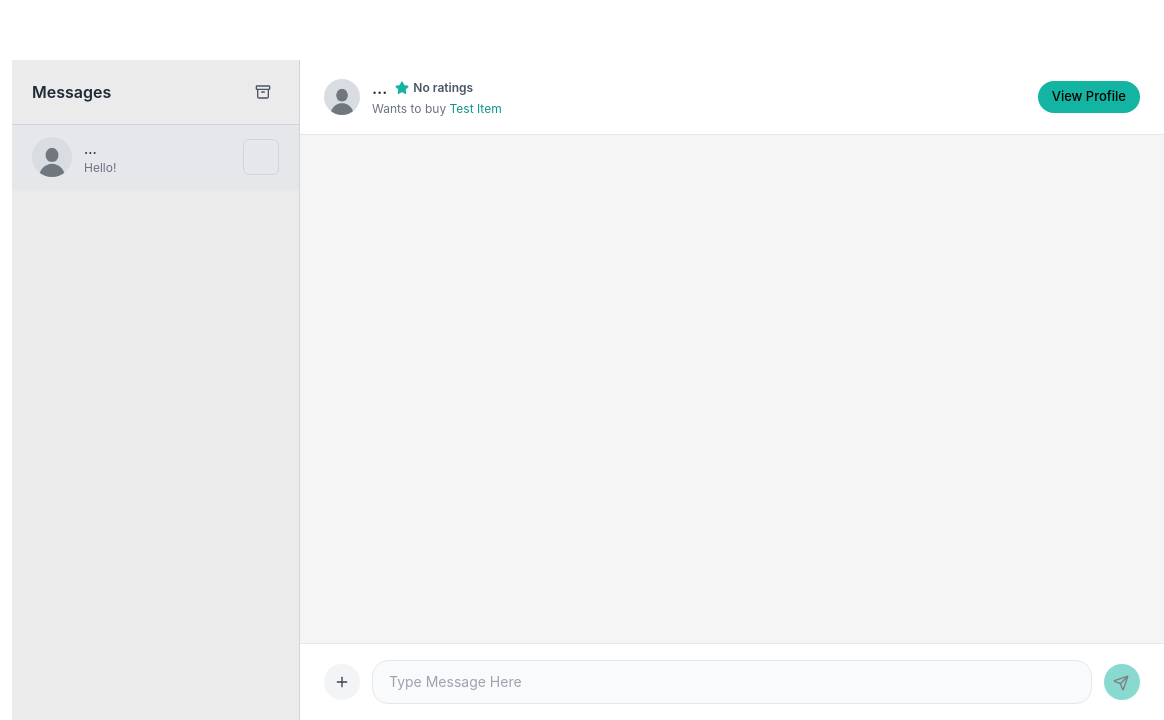
Scenario: ChatLayout › opens the close-deal confirmation prompt when 'Close Deal' is selected from the menu
Click the button titled "Actions": (342, 682) [324,664,360,700]
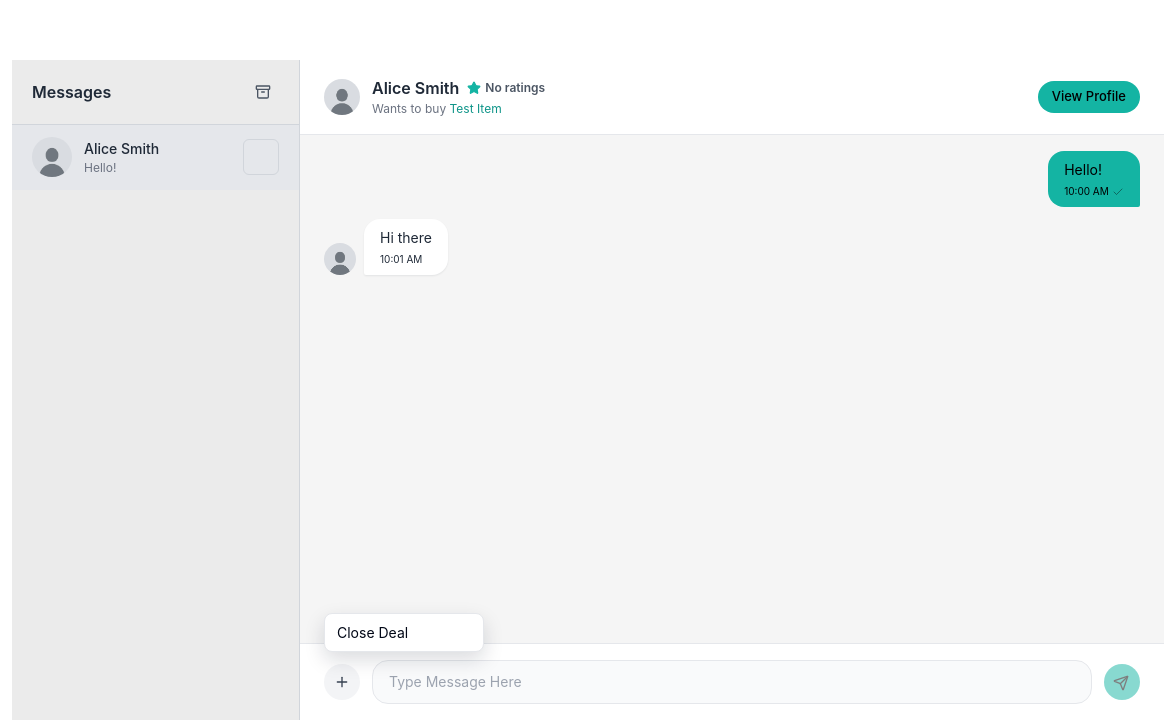
Now the button "Close Deal" is shown
Click the button "Close Deal": (404, 632) [325,614,483,651]
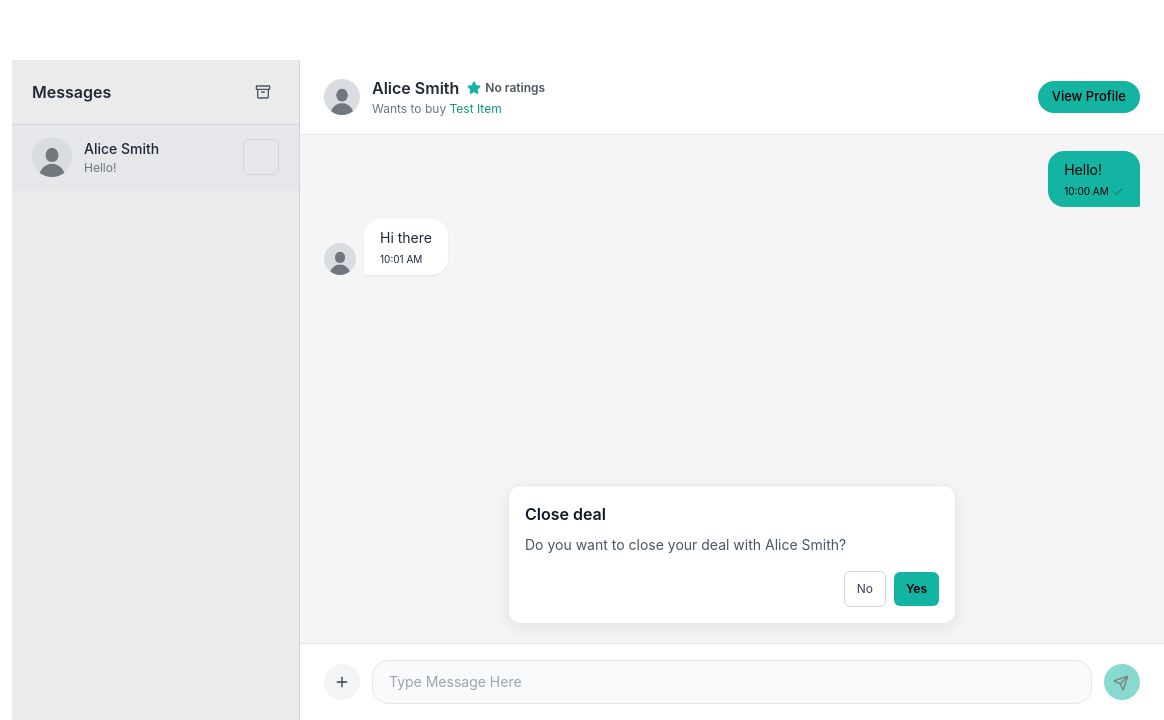
Now the heading "Close deal" is shown, box [525,504,606,524]
Now the button "Yes" is shown, box [894,572,939,606]
Now the button "No" is shown, box [844,571,886,607]
